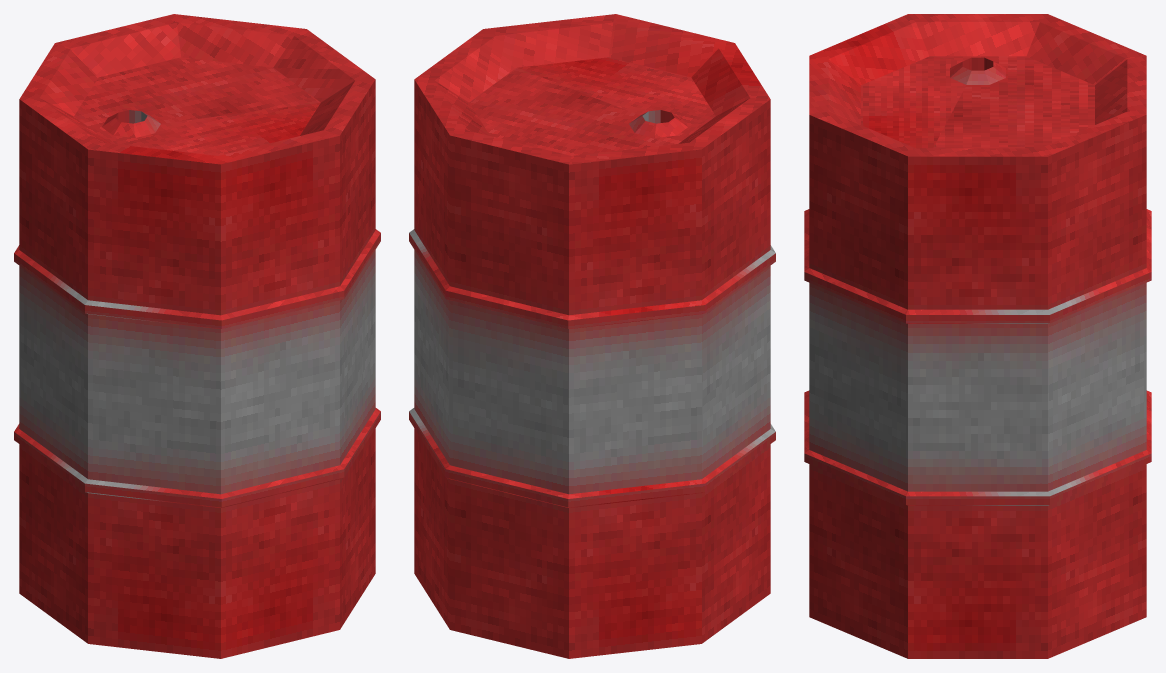
Rendered from ExplosiveBarrel.fbx.
The picture shows the model from 3 angles, left to right: view 1: azimuth 30°, elevation 25°; view 2: azimuth 150°, elevation 25°; view 3: azimuth 270°, elevation 25°; orthographic projection.
Visible parts, largest first — view 1: ExplosiveBarrel; view 2: ExplosiveBarrel; view 3: ExplosiveBarrel.
Boxes of the visible parts, bbox=[...] form: ExplosiveBarrel: bbox=[14, 14, 380, 658]; ExplosiveBarrel: bbox=[409, 14, 775, 658]; ExplosiveBarrel: bbox=[804, 14, 1151, 658].
Size of the model in its own units: 55.19 by 88.08 by 55.19.
Materials: 1 (1 with a texture image).
